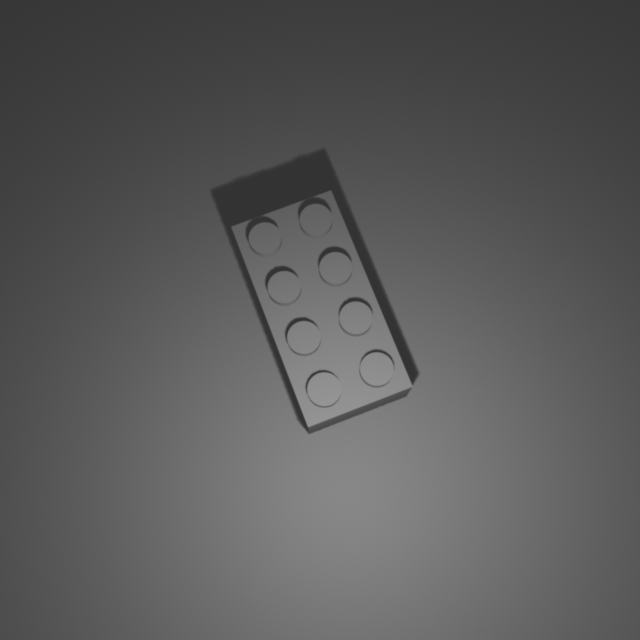lego_2x4: (230, 186, 414, 434)
